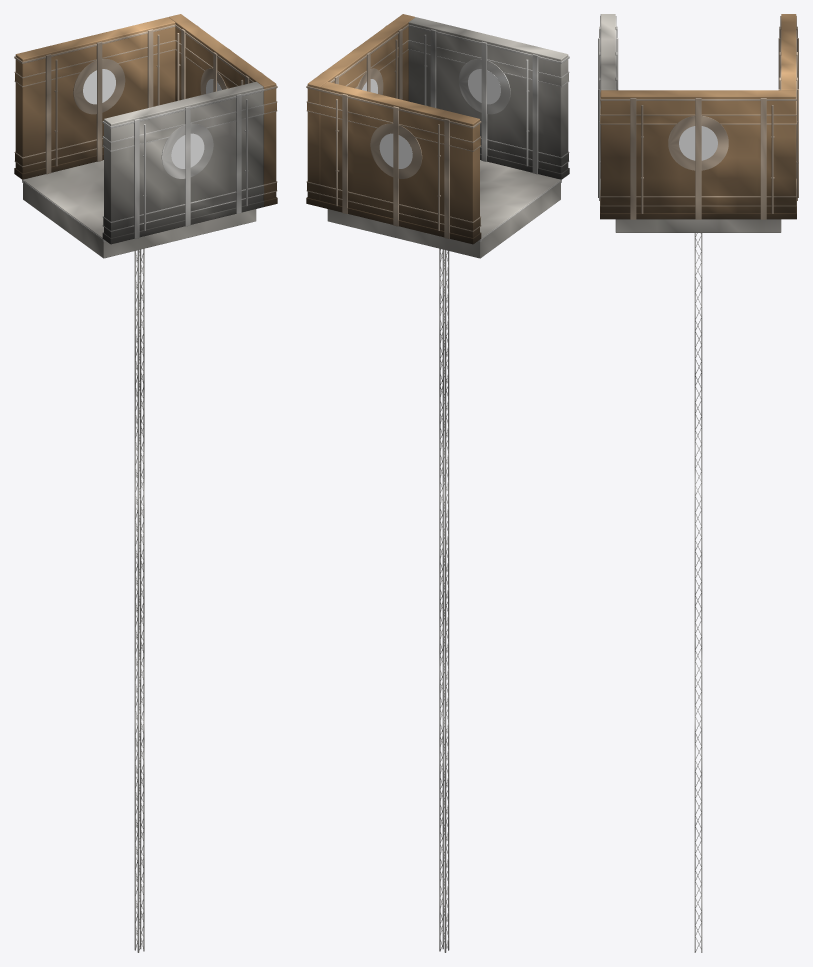
File: SM_Tower_E.fbx
The picture shows the model from 3 angles, left to right: view 1: azimuth 30°, elevation 25°; view 2: azimuth 150°, elevation 25°; view 3: azimuth 270°, elevation 25°; orthographic projection. The views are drawn at different scales.
Parts seen in each view (by area): view 1: SM_Tower_E; view 2: SM_Tower_E; view 3: SM_Tower_E.
Part boxes in pixels (<box>): SM_Tower_E: <box>14,14,277,952</box>; SM_Tower_E: <box>306,14,569,952</box>; SM_Tower_E: <box>598,14,798,952</box>.
Bounding box in the file's own units: 1324 × 6600 × 1335.
